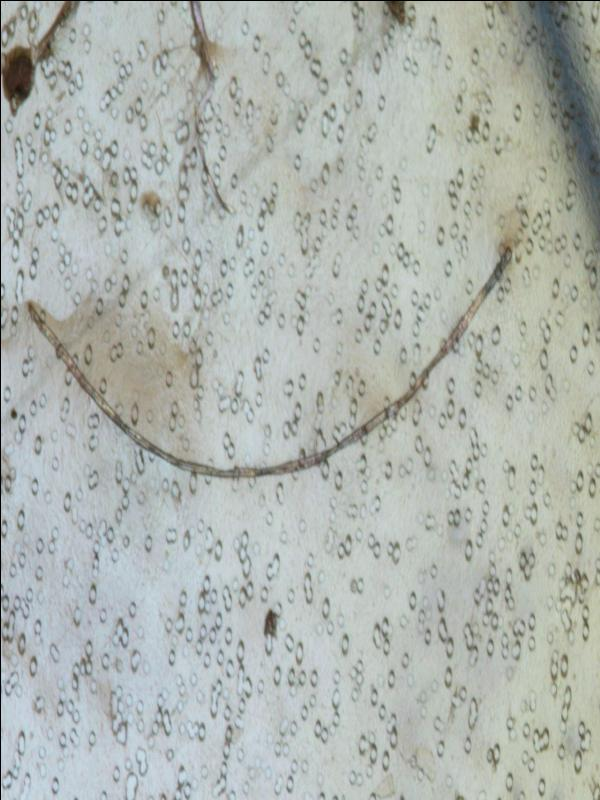microplastic: (1, 3, 598, 799), (25, 240, 513, 482)
